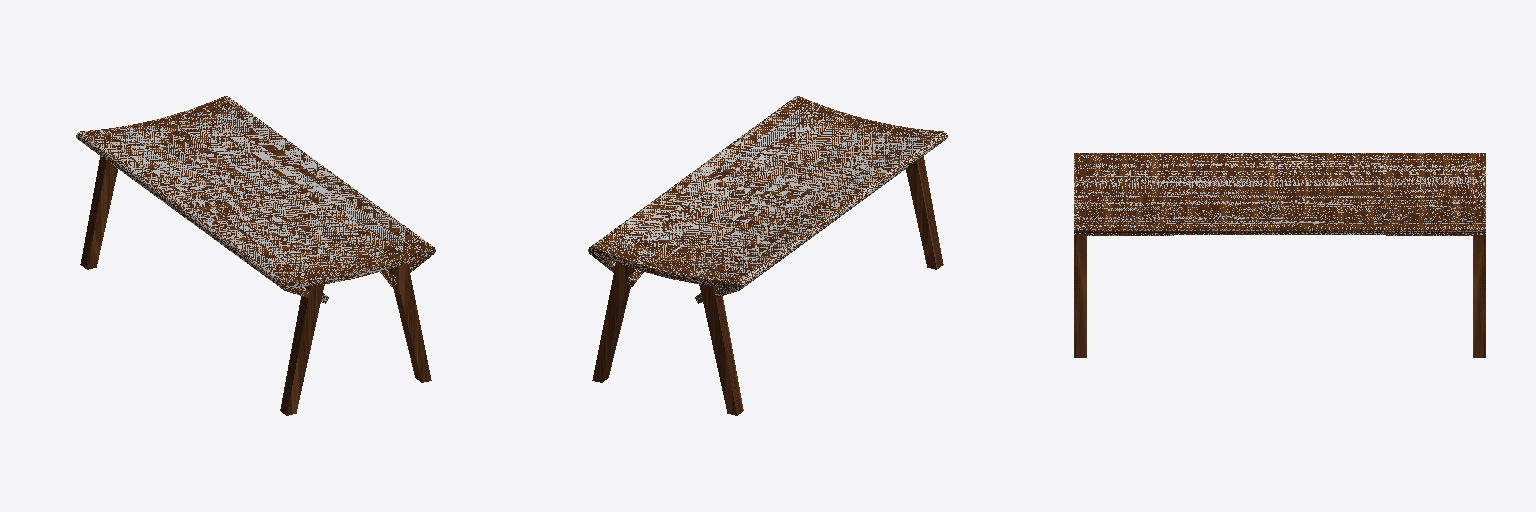
3 renders of one model, left to right at view 1: azimuth 30°, elevation 25°; view 2: azimuth 150°, elevation 25°; view 3: azimuth 270°, elevation 25°, orthographic.
Parts seen in each view (by area): view 1: mesh17_mesh17-geometry, mesh1_mesh1-geometry, mesh6_mesh6-geometry, mesh9_mesh9-geometry; view 2: mesh17_mesh17-geometry, mesh9_mesh9-geometry, mesh14_mesh14-geometry, mesh1_mesh1-geometry; view 3: mesh17_mesh17-geometry, mesh14_mesh14-geometry, mesh6_mesh6-geometry.
Boxes of the visible parts, <box> form: mesh17_mesh17-geometry: <box>76,96,435,303</box>; mesh1_mesh1-geometry: <box>280,284,324,415</box>; mesh6_mesh6-geometry: <box>389,263,431,382</box>; mesh9_mesh9-geometry: <box>80,156,117,269</box>; mesh17_mesh17-geometry: <box>588,96,947,303</box>; mesh9_mesh9-geometry: <box>699,284,743,415</box>; mesh14_mesh14-geometry: <box>592,263,634,382</box>; mesh1_mesh1-geometry: <box>906,156,943,269</box>; mesh17_mesh17-geometry: <box>1074,153,1485,235</box>; mesh14_mesh14-geometry: <box>1473,235,1485,357</box>; mesh6_mesh6-geometry: <box>1074,235,1086,357</box>.
Bounding box in the file's own units: 0.3742 × 0.3119 × 0.8733.
3 materials, 1 textured.